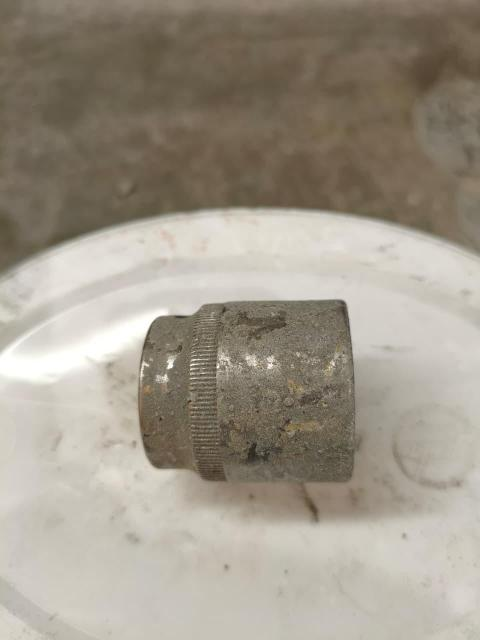Metal: (142, 305, 358, 480)
